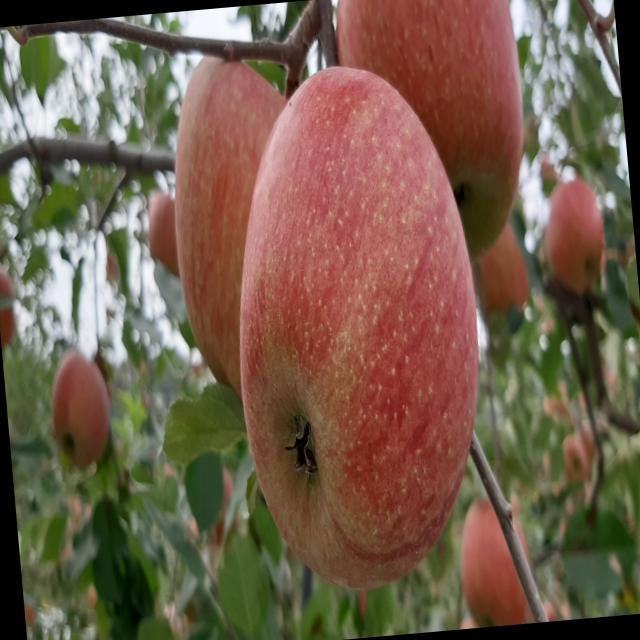fresh: (208, 43, 508, 609)
